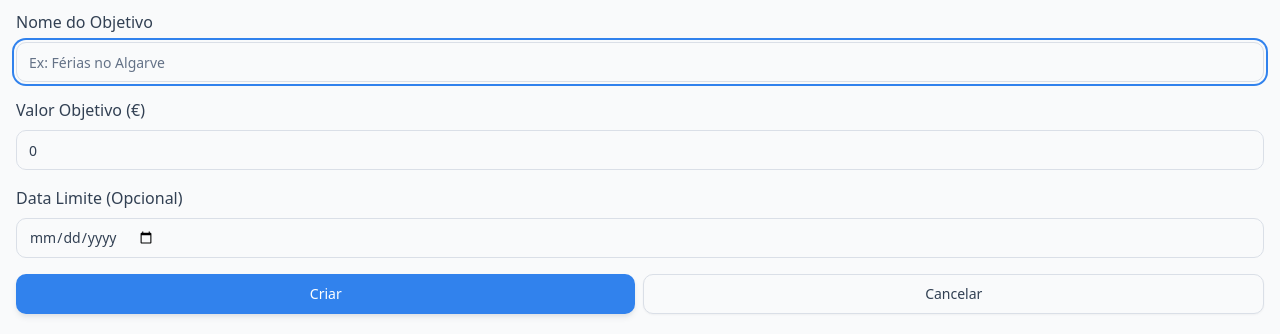
GoalForm › should handle numeric input for valor_alvo
Testar input numérico válido
Replace the text in the field with placeholder "0,00" with "2500.75" at coordinates (640, 150), box [16,130,1264,170]
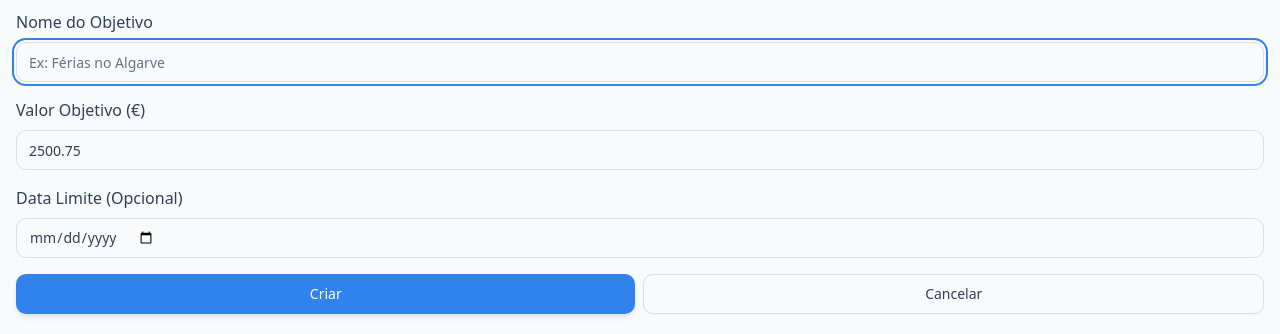
Testar input não numérico (deve ser filtrado)
Replace the text in the field with placeholder "0,00" with "abc456" at coordinates (640, 150), box [16,130,1264,170]
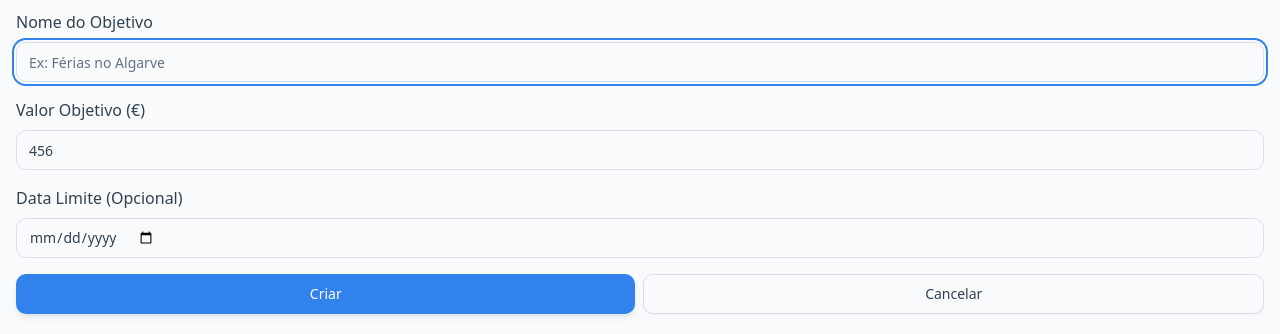
Check: the field with placeholder "0,00" holds "456", box [16,130,1264,170]
